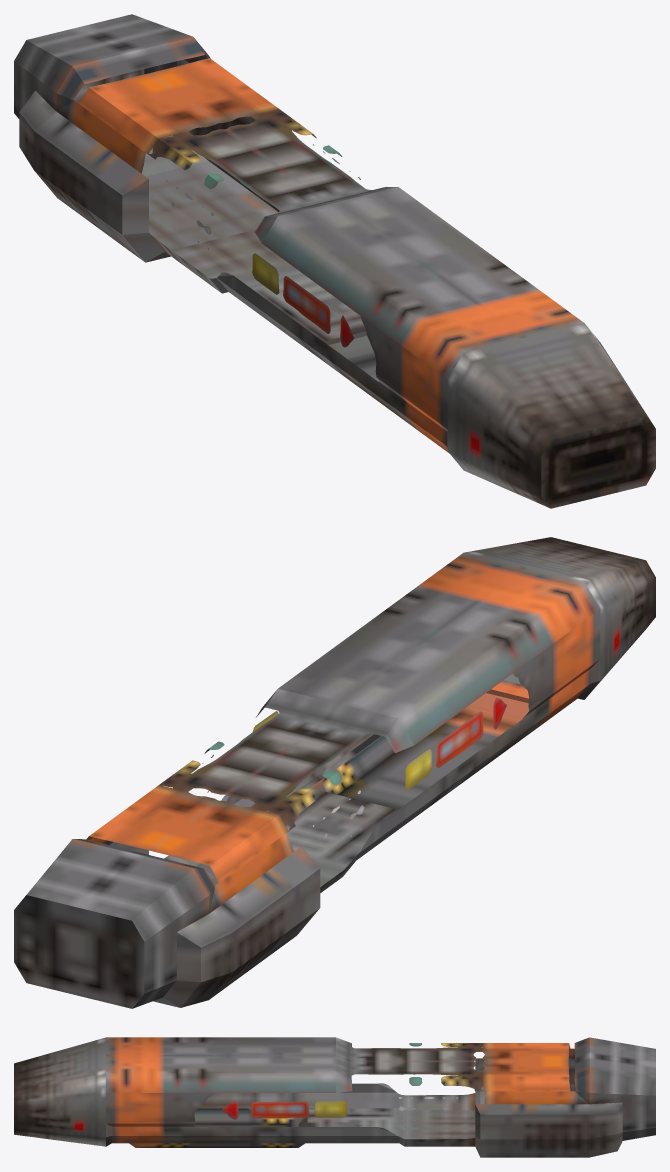
3 renders of one model, top to bottom at view 1: azimuth 30°, elevation 25°; view 2: azimuth 150°, elevation 25°; view 3: azimuth 270°, elevation 25°, orthographic. The views are drawn at different scales.
Visible parts, largest first — view 1: PulsarGunUV; view 2: PulsarGunUV; view 3: PulsarGunUV.
Part boxes in pixels (x1,y1,x2,y2): PulsarGunUV: [14, 14, 655, 508]; PulsarGunUV: [14, 537, 655, 1008]; PulsarGunUV: [14, 1037, 655, 1157].
Size of the model in its own units: 3.61 by 2.47 by 17.85.
